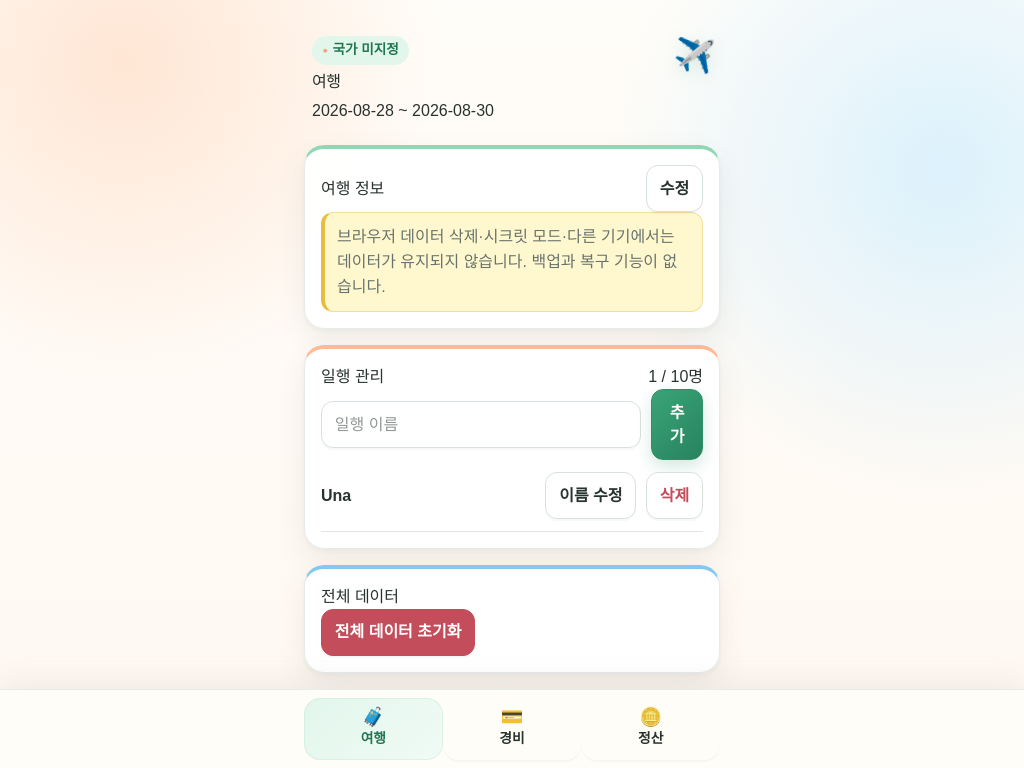
AppShell › 기존 경비 수정 시 저장된 날짜를 오늘 날짜로 덮어쓰지 않는다
The width and height of the screenshot is (1024, 768).
expect the heading "여행 정보" is shown: met, box [321, 177, 384, 201]
Click the button "경비": (512, 729) [443, 698, 581, 760]
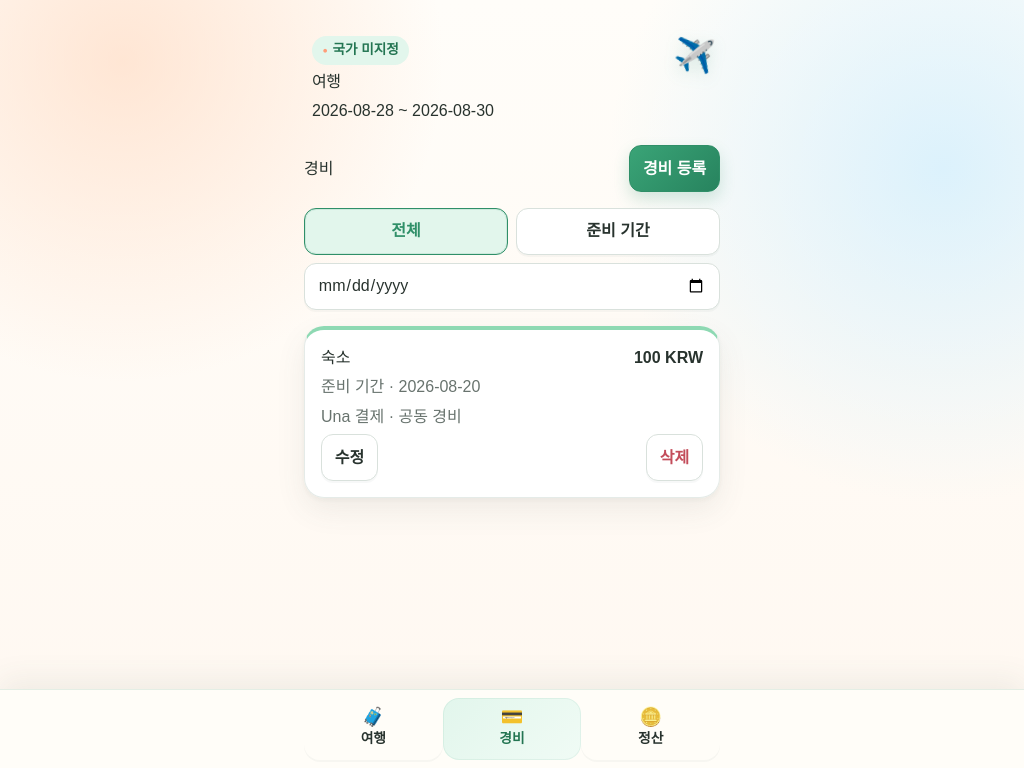
Click the button "수정": (350, 458) [321, 434, 378, 481]
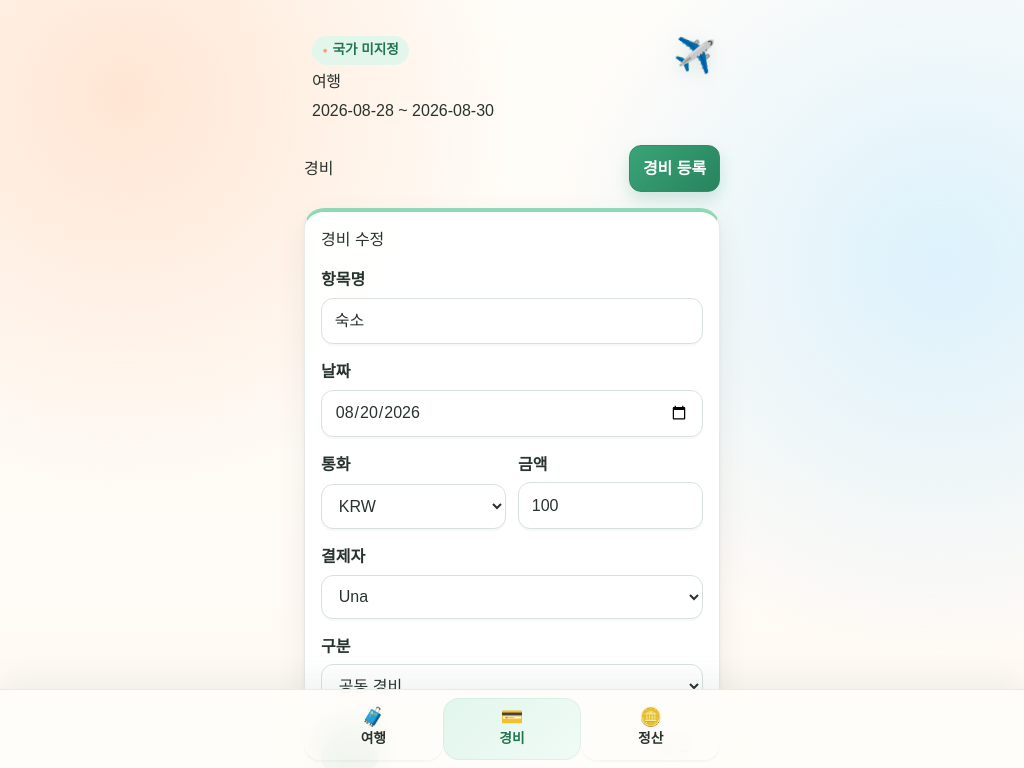
expect the date field labelled "날짜" holds "2026-08-20": met, box [321, 390, 703, 437]
